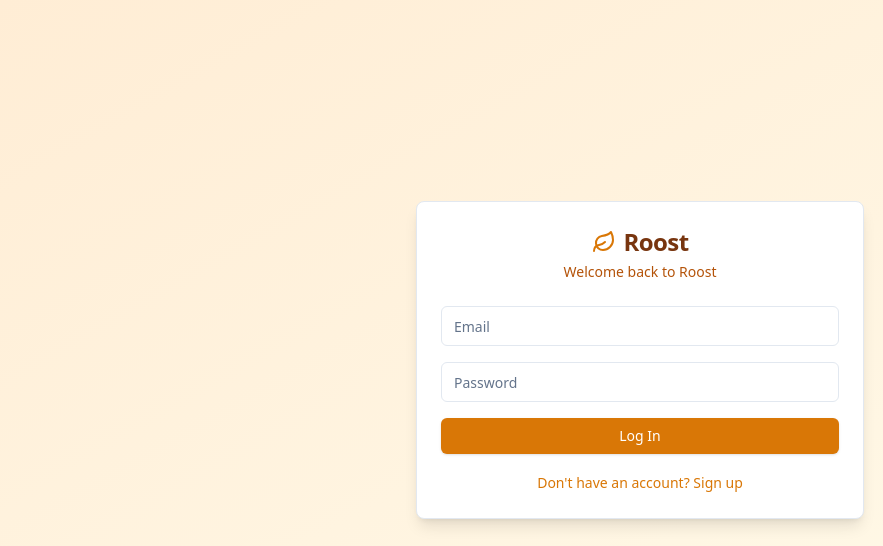
Test case: LoginPage › should not let user press submit while loading
Step 1. Type "test@example.com" into the field with placeholder "Email" → (640, 326), box [441, 306, 839, 346]
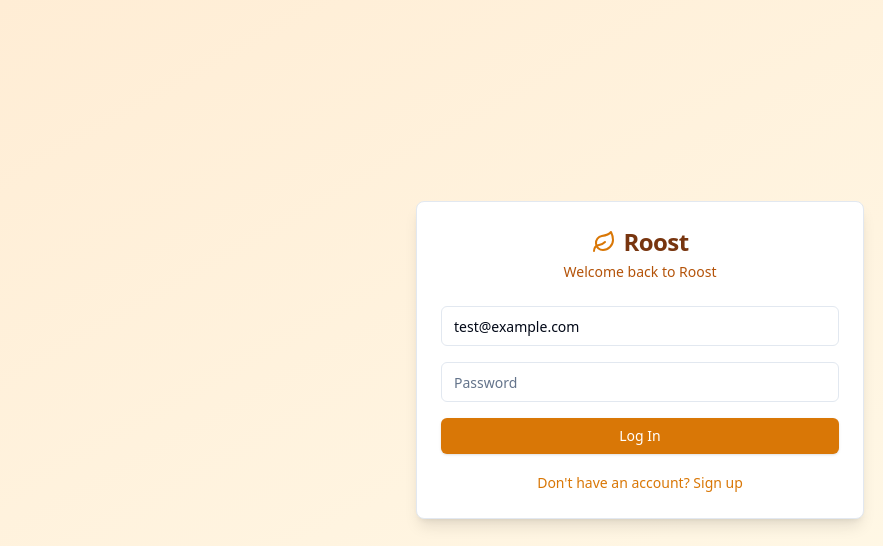
Step 2. Type "password123" into the password field with placeholder "Password" → (640, 382), box [441, 362, 839, 402]
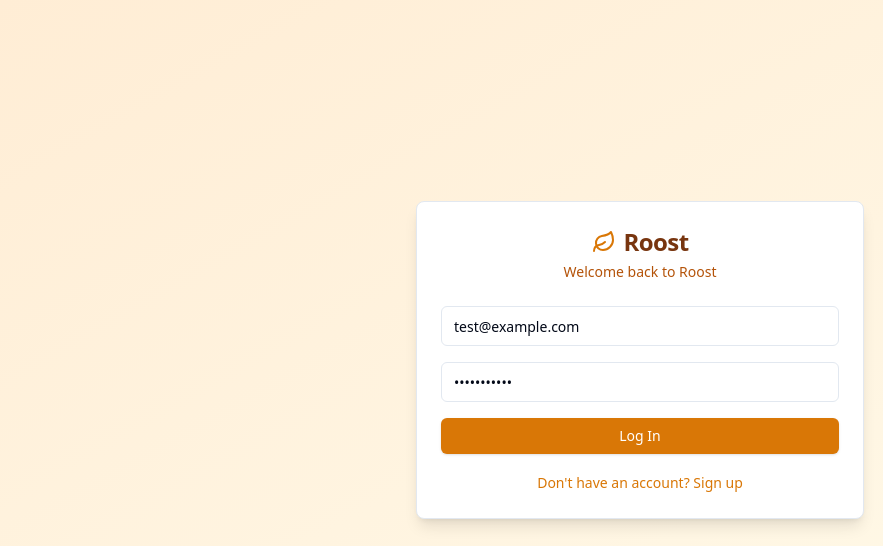
Step 3. Click the button "Log In" → (640, 436), box [441, 418, 839, 454]
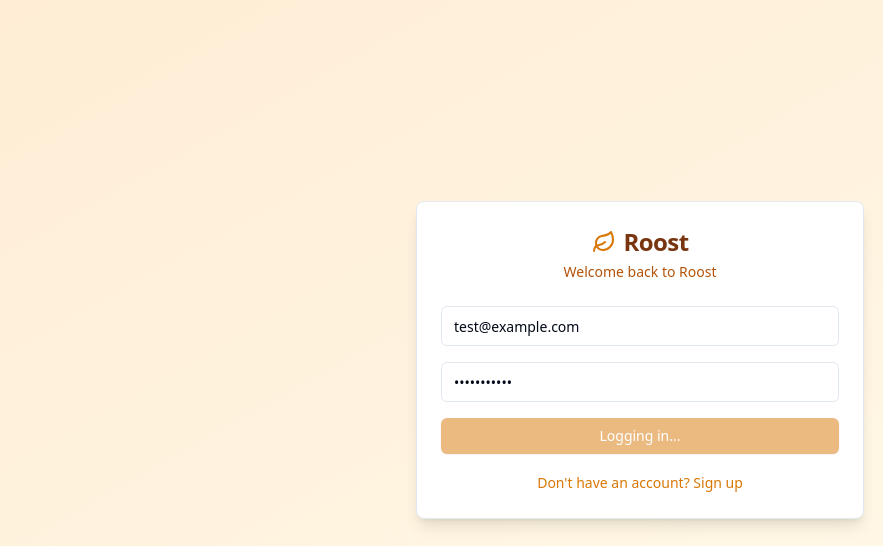
Check: the button named "log in" is disabled, box [441, 418, 839, 454]
